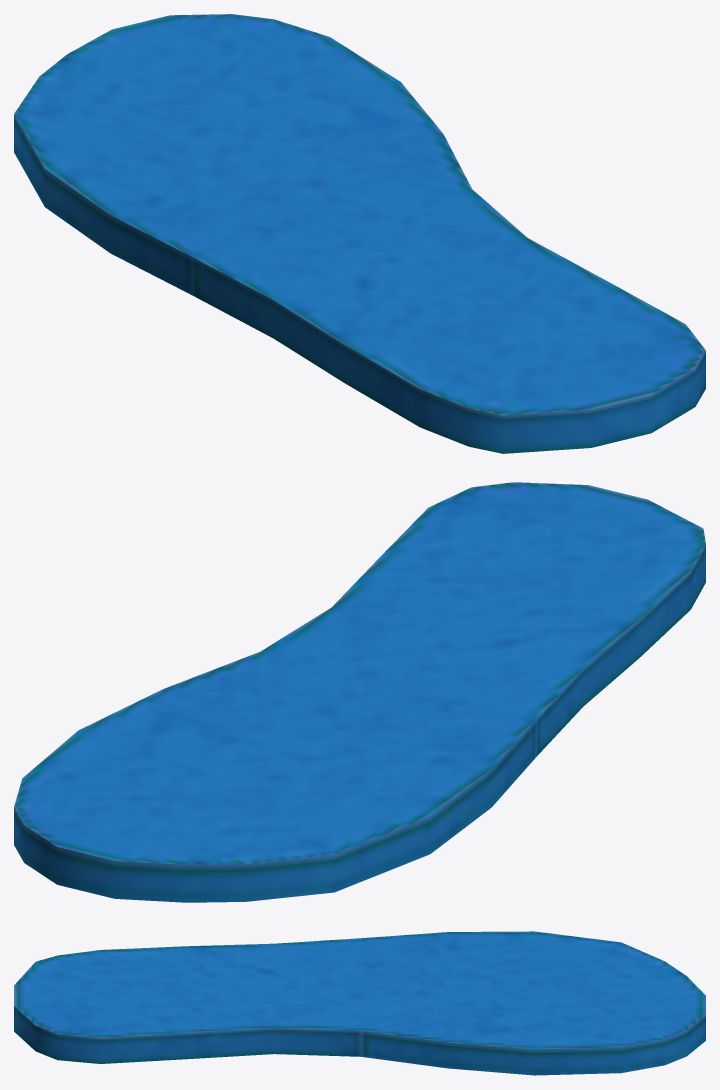
File: flipflops02.FBX
3 renders of one model, top to bottom at view 1: azimuth 30°, elevation 25°; view 2: azimuth 150°, elevation 25°; view 3: azimuth 270°, elevation 25°, orthographic. The views are drawn at different scales.
Visible parts, largest first — view 1: SM_FlipFlops02; view 2: SM_FlipFlops02; view 3: SM_FlipFlops02.
Part boxes in pixels (x1=…): SM_FlipFlops02: x1=14, y1=14, x2=705, y2=453; SM_FlipFlops02: x1=14, y1=482, x2=705, y2=902; SM_FlipFlops02: x1=14, y1=931, x2=705, y2=1075.
Bounding box in the file's own units: 12.63 × 1.3 × 31.29.
Materials: 1 (1 with a texture image).
